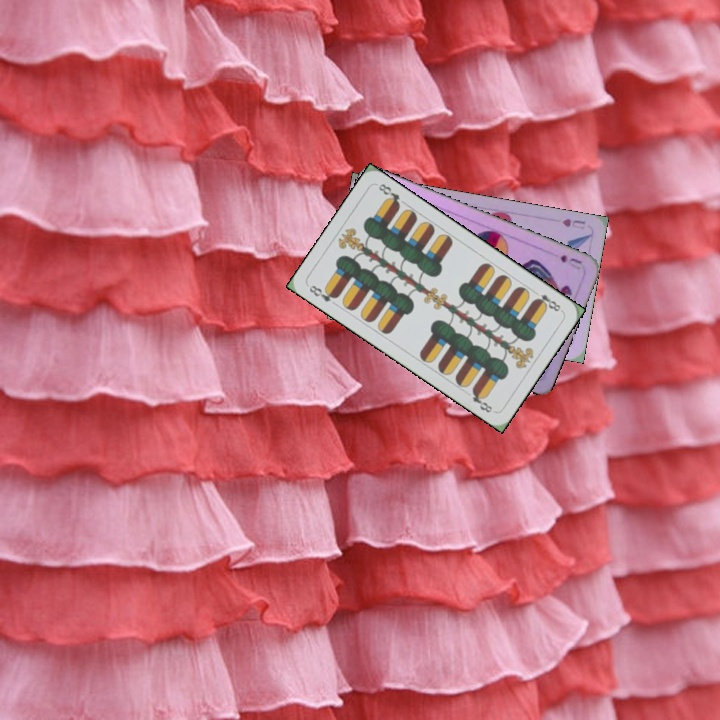E8: (305, 281, 341, 305), (530, 290, 565, 314)
HU: (558, 214, 588, 232)
SU: (556, 250, 584, 272)
